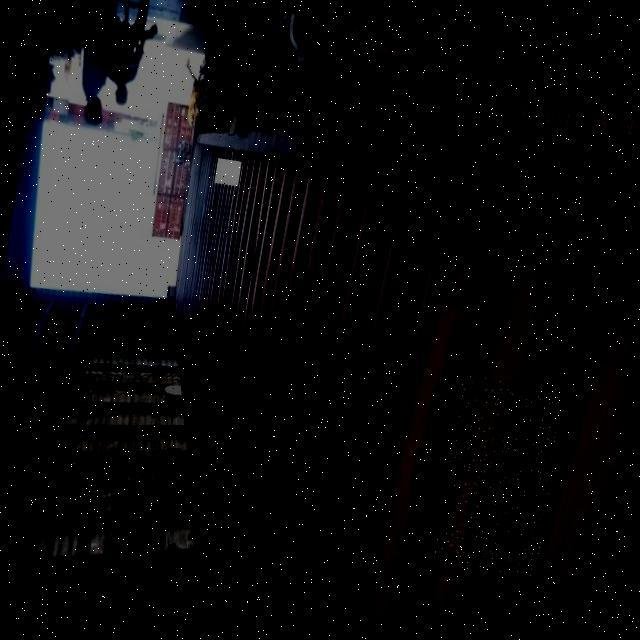Minor-Dent: (433, 374, 568, 580)
